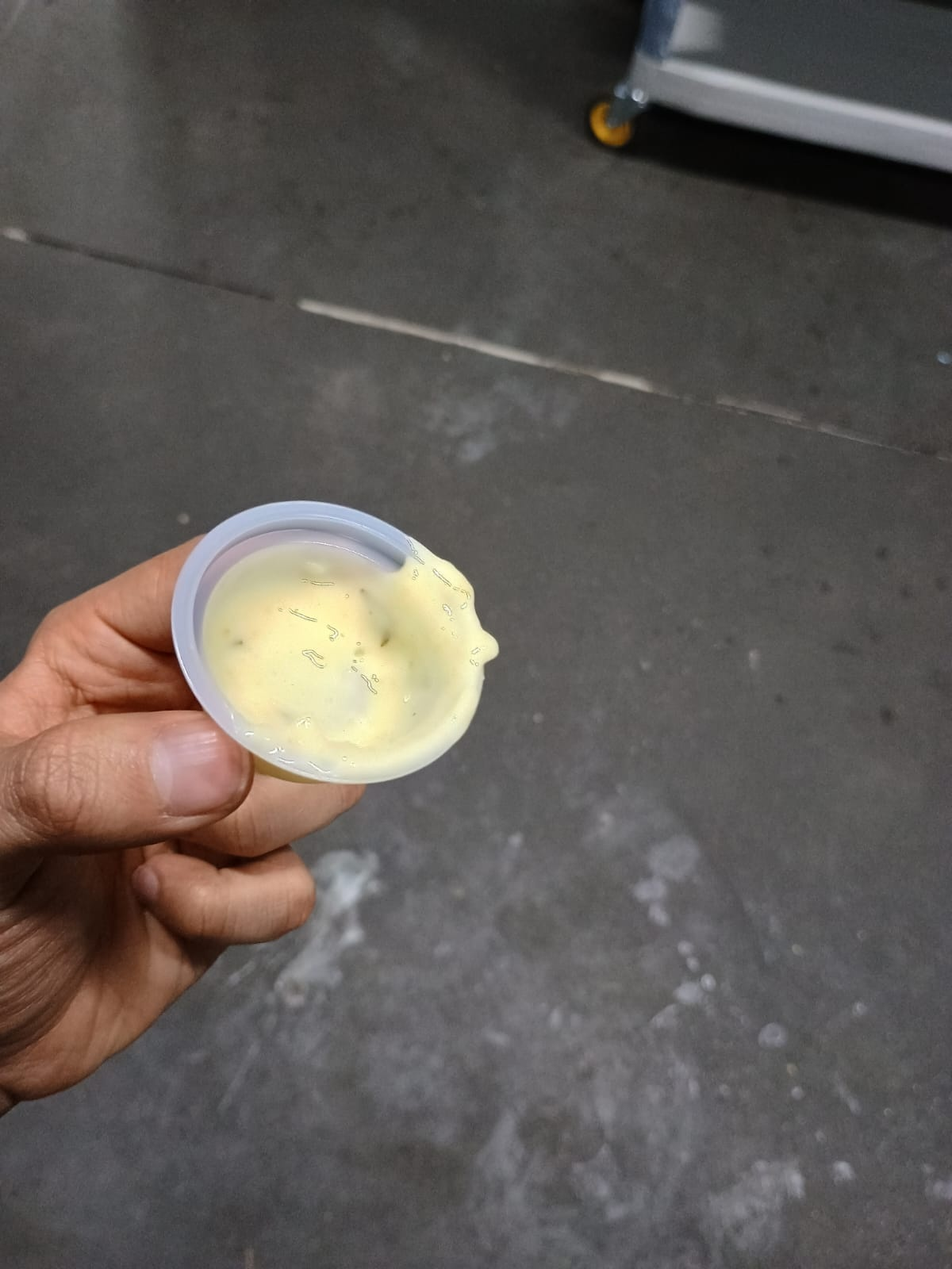Ordinario: (168, 496, 489, 784)
